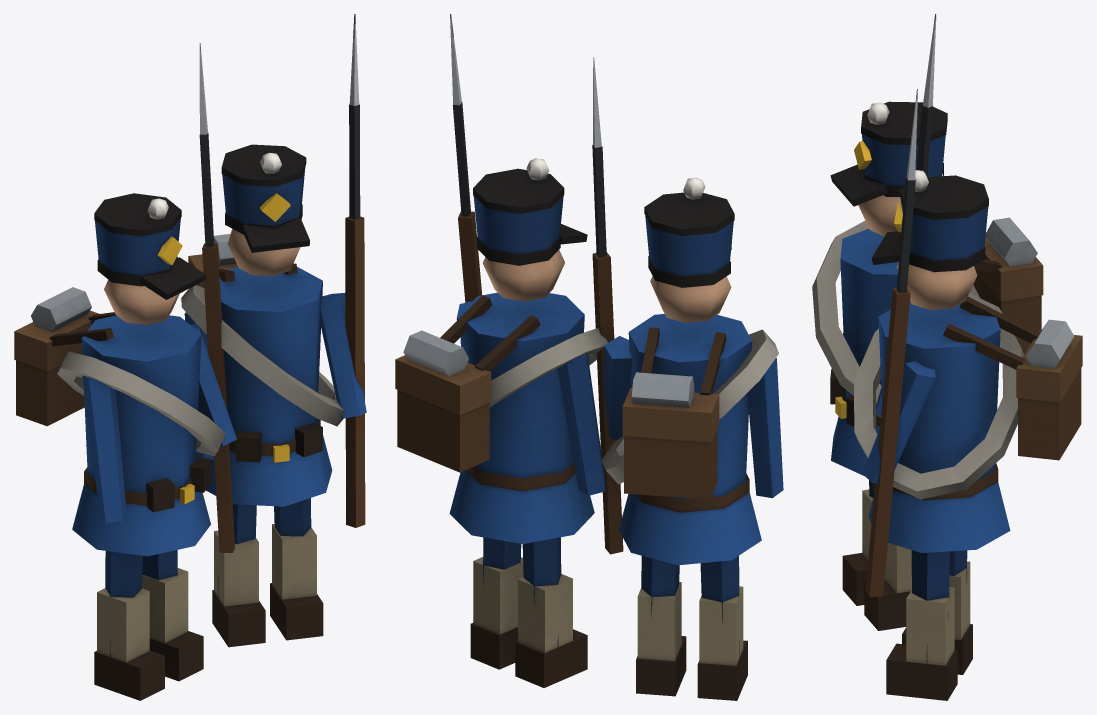
File: sentry_dl5_blue.glb
3 views of the same model, side by side, from view 1: azimuth 30°, elevation 25°; view 2: azimuth 150°, elevation 25°; view 3: azimuth 270°, elevation 25° (orthographic). The views are drawn at different scales.
Visible parts, largest first — view 1: sentry_dl5_blue; view 2: sentry_dl5_blue; view 3: sentry_dl5_blue.
Boxes of the visible parts, x1,y1,x2,y2 form: sentry_dl5_blue: [14, 14, 366, 700]; sentry_dl5_blue: [395, 14, 783, 700]; sentry_dl5_blue: [812, 14, 1082, 700].
Bounding box in the file's own units: 0.2701 × 0.5225 × 0.2037.
1 material, 1 textured.
